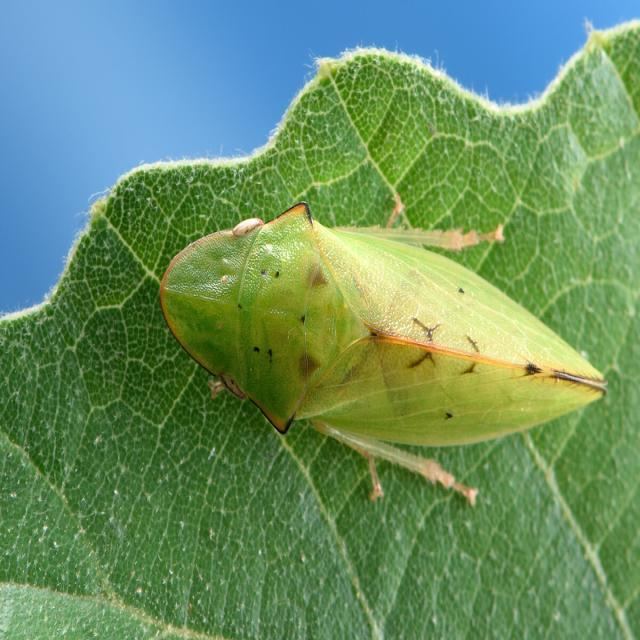Yechan: (154, 191, 611, 494)
